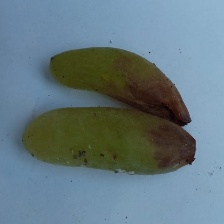grapes: (20, 34, 204, 171)
